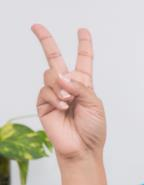front: (25, 20, 111, 158)
